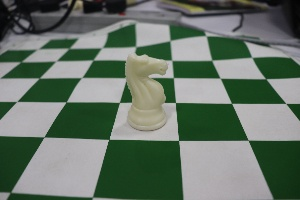white_horse: (111, 42, 176, 138)
